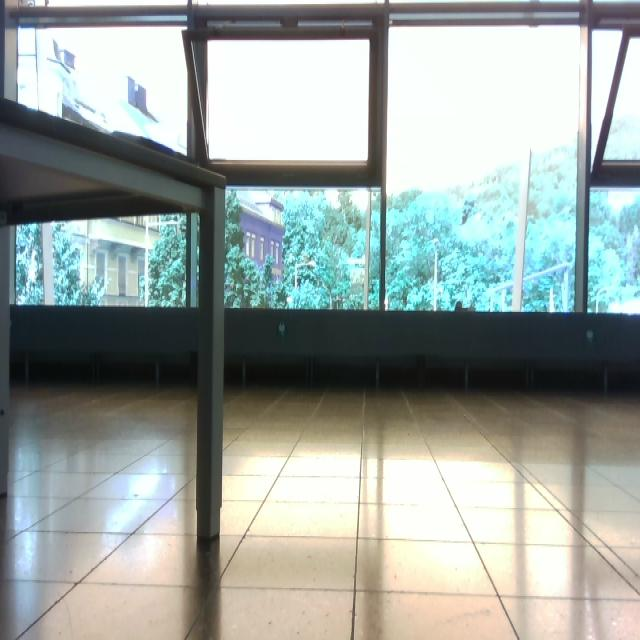door: (3, 208, 203, 538)
light bulb: (286, 296, 293, 304), (433, 238, 439, 245)
tiled floor: (2, 381, 639, 638)
window: (385, 17, 583, 313), (15, 13, 192, 158)
